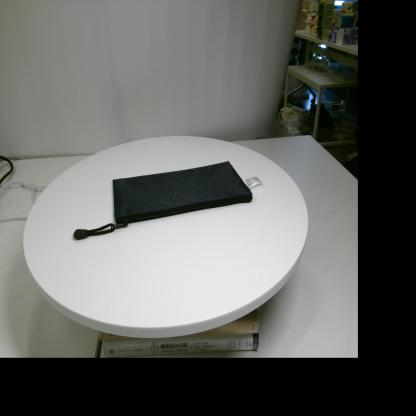Stationery: (73, 161, 263, 239)
